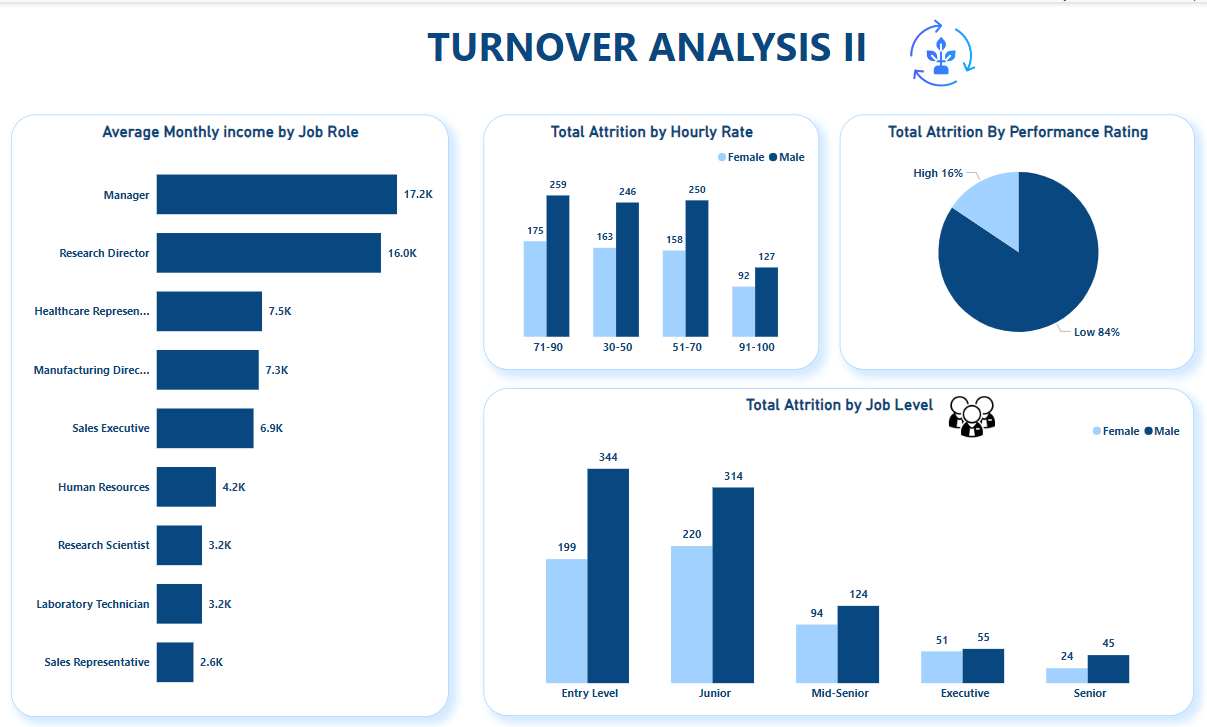

Layout of this report page (visuals, bound fields, positions):
{"tool":"powerbi","page":{"name":"TURNOVER-2","canvas":[1500,900],"ordinal":3},"visuals":[{"type":"barChart","title":"Average Monthly income by Job Role","fields":{"Category":["HR-Employee-Attrition.JobRole"],"Y":["Avg(HR-Employee-Attrition.MonthlyIncome)"]},"box":[24,136.9,535.4,737.1],"z":0},{"type":"pieChart","title":"Total Attrition By Performance Rating","fields":{"Y":["Sum(HR-Employee-Attrition.Attrition number)"],"Category":["HR-Employee-Attrition.PerformanceRating (groups)"]},"box":[1037.2,136.9,434.6,312.1],"z":1000},{"type":"clusteredColumnChart","title":"Total Attrition by Job Level","fields":{"Category":["HR-Employee-Attrition.JobLevel (groups)"],"Y":["Sum(HR-Employee-Attrition.EmployeeCount)"],"Series":["HR-Employee-Attrition.Gender"]},"box":[602.6,473,869.1,401],"z":2000},{"type":"clusteredColumnChart","title":"Total Attrition by Hourly Rate","fields":{"Y":["CountNonNull(HR-Employee-Attrition.Attrition)"],"Series":["HR-Employee-Attrition.Gender"],"Category":["HR-Employee-Attrition.HourlyRate (groups)"]},"box":[602.6,136.9,410.6,312.1],"z":3000},{"type":"textbox","box":[244.1,16,1115.5,148.3],"z":4000},{"type":"image","box":[1164.4,473,69.6,69.6],"z":5000},{"type":"image","box":[1116.4,16.8,96,91.2],"z":6000}]}

Visuals, with their boxes in screenshot pixels (x1, y1, x2, y2), scaled from the page's 1500x900 canvas onto the 1207x727 screenshot:
"Average Monthly income by Job Role" barChart: {"x1": 19, "y1": 111, "x2": 450, "y2": 706}
"Total Attrition By Performance Rating" pieChart: {"x1": 835, "y1": 111, "x2": 1184, "y2": 363}
"Total Attrition by Job Level" clusteredColumnChart: {"x1": 485, "y1": 382, "x2": 1184, "y2": 706}
"Total Attrition by Hourly Rate" clusteredColumnChart: {"x1": 485, "y1": 111, "x2": 815, "y2": 363}
textbox: {"x1": 196, "y1": 13, "x2": 1094, "y2": 133}
image: {"x1": 937, "y1": 382, "x2": 993, "y2": 438}
image: {"x1": 898, "y1": 14, "x2": 976, "y2": 87}
